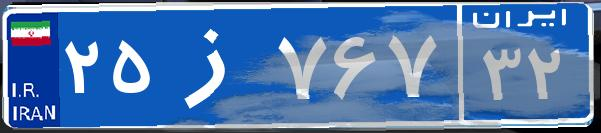2: (57, 26, 110, 107), (525, 38, 570, 115)
3: (475, 38, 525, 113)
5: (110, 28, 158, 105)
6: (330, 28, 385, 110)
7: (385, 28, 445, 110), (273, 28, 330, 110)
ز: (158, 15, 273, 115)
